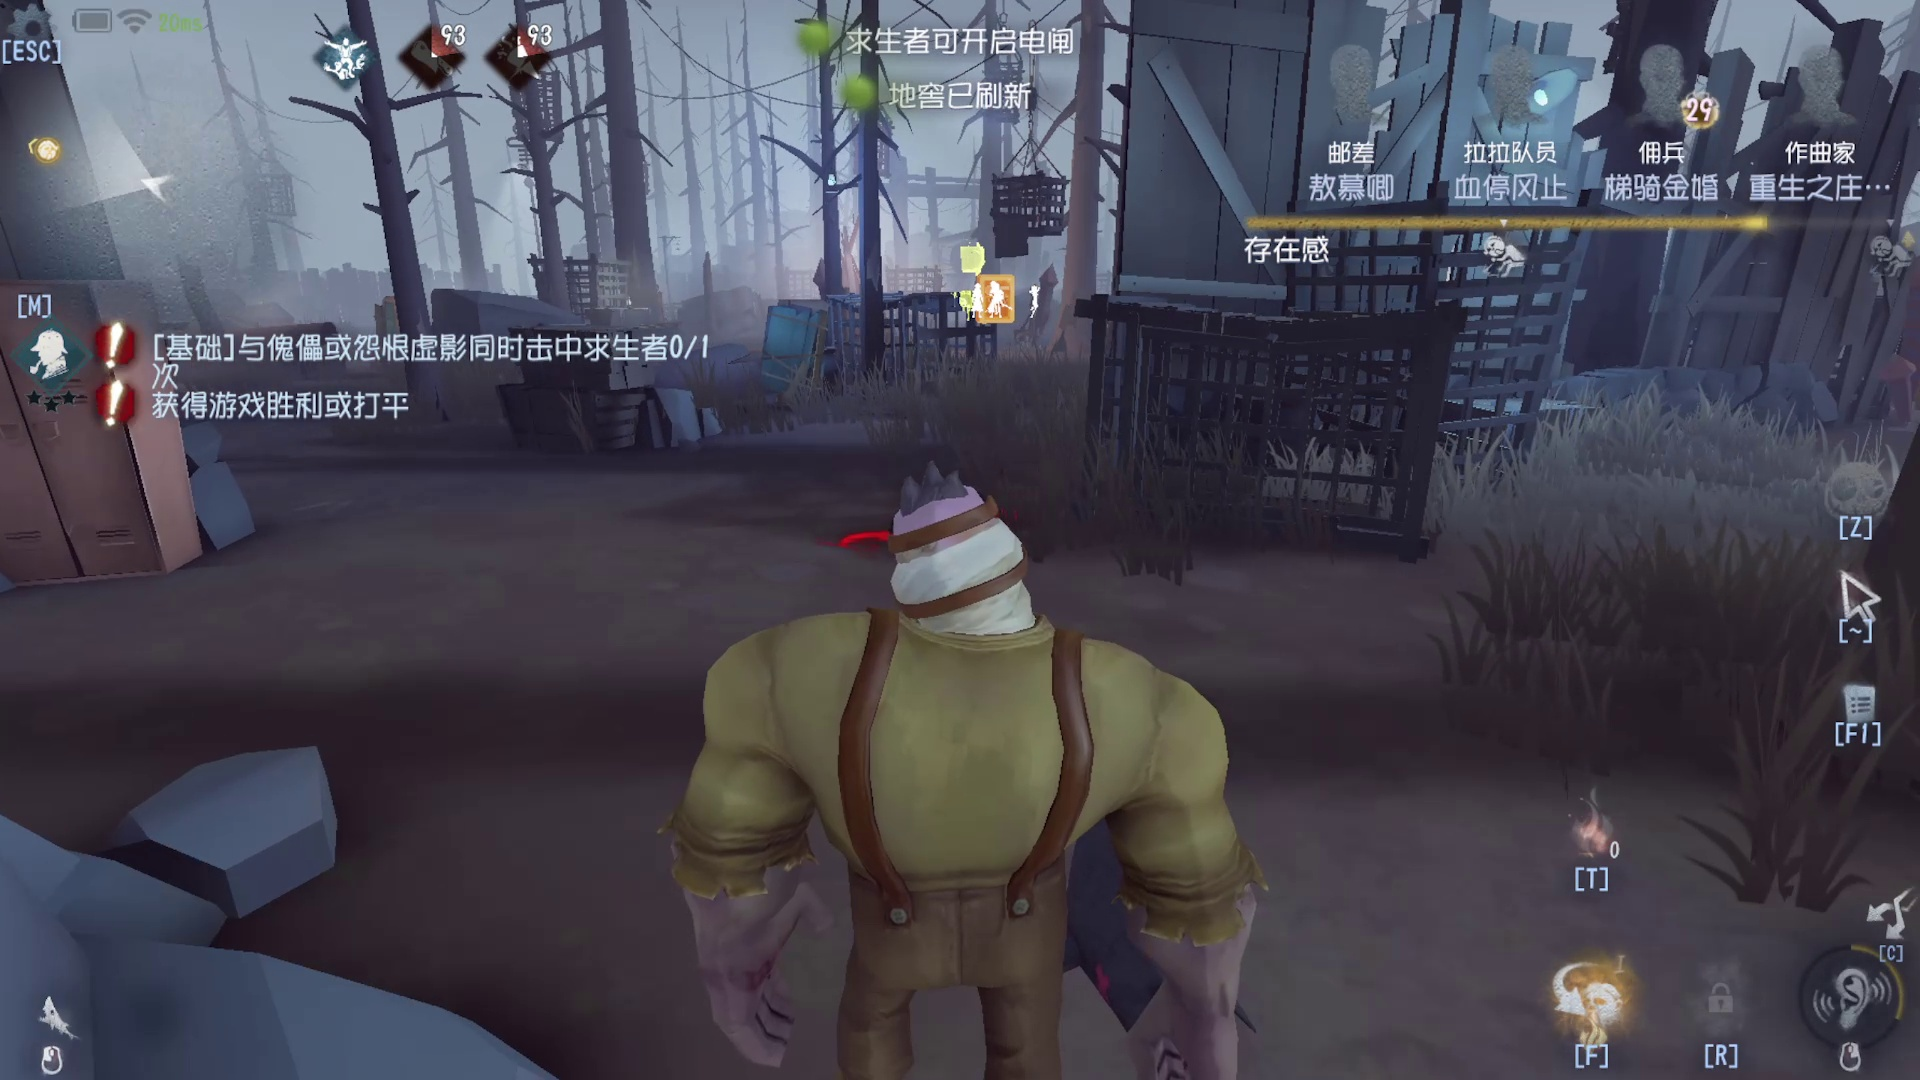技能: (1513, 752, 1664, 901)
木板: (725, 280, 868, 434), (342, 276, 448, 359)
求生者: (934, 253, 1085, 353)
设置: (1, 1, 83, 78)
